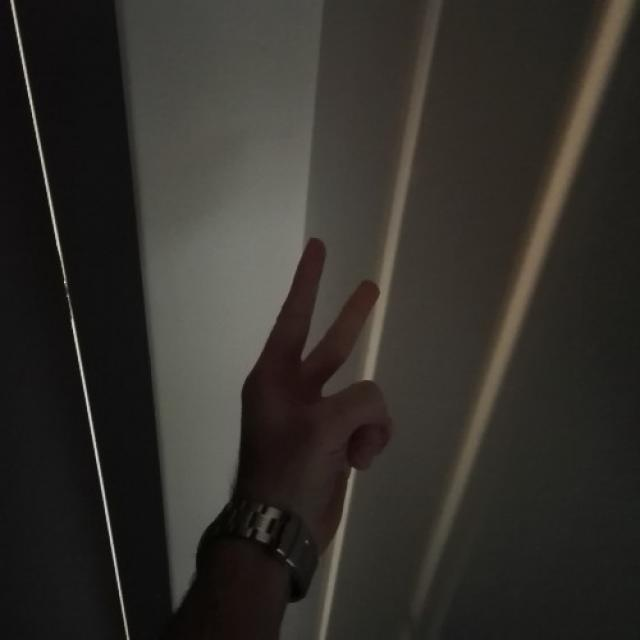scissors: (240, 234, 400, 512)
